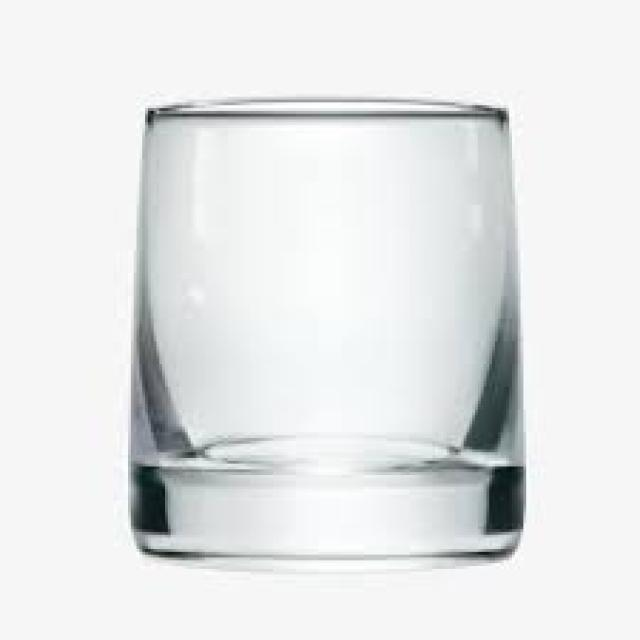glass: (128, 97, 523, 558)
